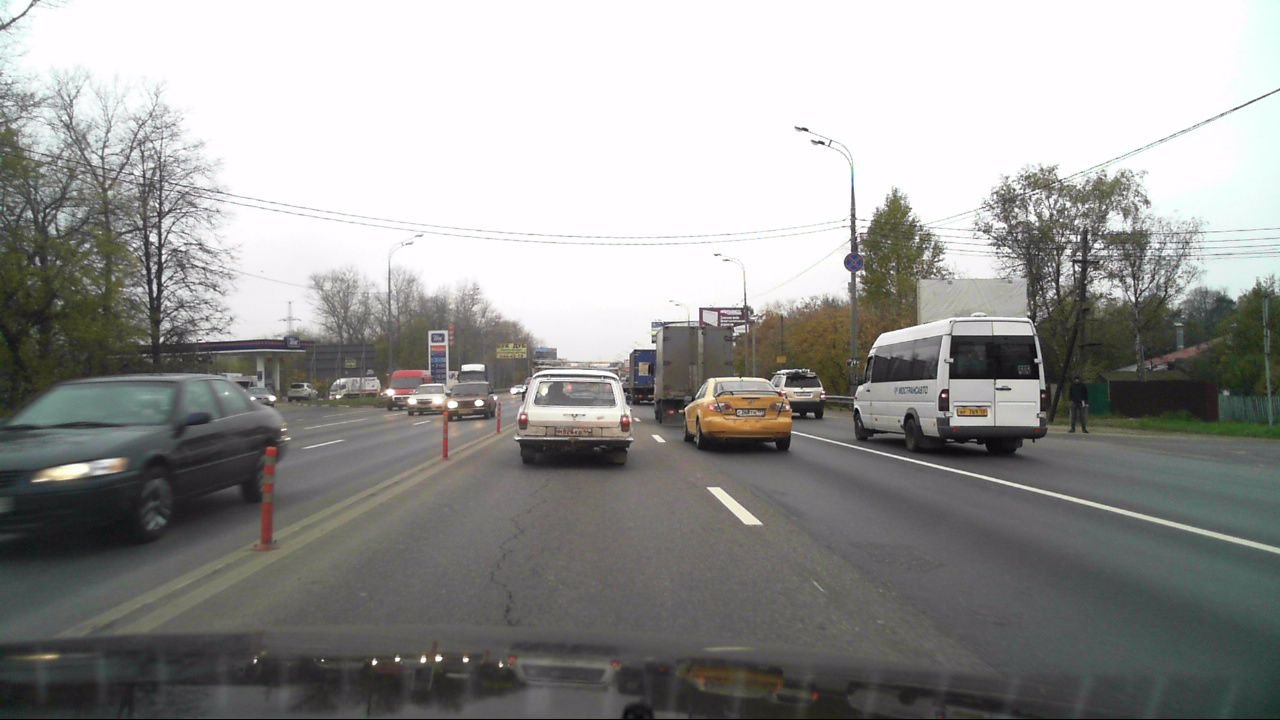No Parking: (844, 253, 863, 271)
